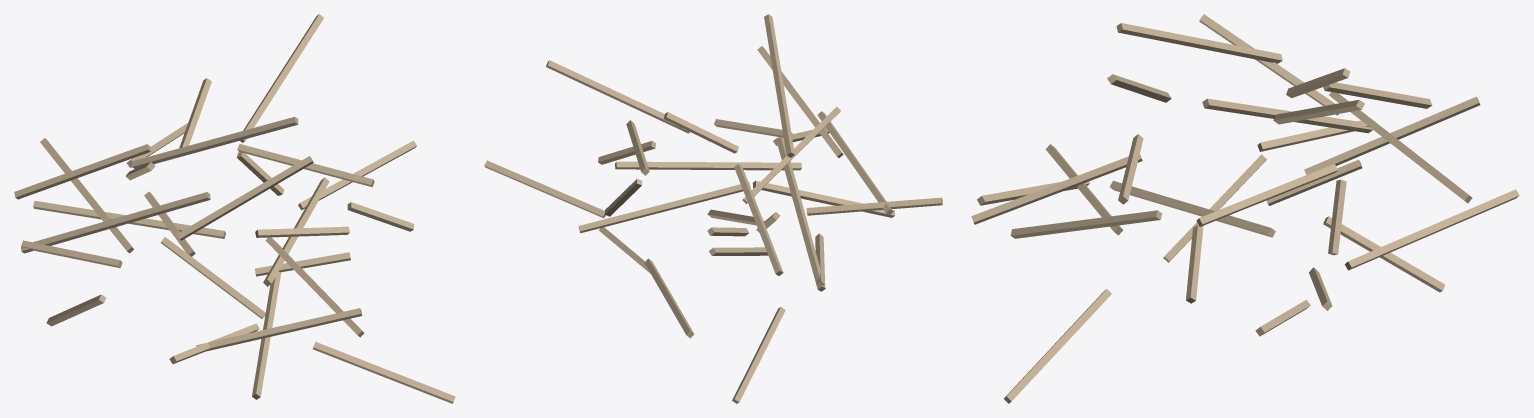
Rendered from Tumbleweed.glb.
3 renders of one model, left to right at view 1: azimuth 30°, elevation 25°; view 2: azimuth 150°, elevation 25°; view 3: azimuth 270°, elevation 25°, orthographic. The views are drawn at different scales.
Parts seen in each view (by area): view 1: Limb.009, Limb.013, Limb.011, Limb.014, Limb.004, Limb.003, Limb.016, Limb, Limb.019, Limb.015, Limb.023, Limb.020 (+13 smaller); view 2: Limb.006, Limb.022, Limb.013, Limb.009, Limb, Limb.007, Limb.005, Limb.003, Limb.011, Limb.015, Limb.018, Limb.014 (+9 smaller); view 3: Limb.013, Limb.016, Limb.020, Limb.002, Limb.015, Limb.009, Limb.022, Limb.019, Limb.006, Limb.004, Limb.018, Limb.003 (+13 smaller).
Boxes of the visible parts, box(x1,y1,x2,y2) form: Limb.009: box(21, 192, 210, 253); Limb.013: box(132, 116, 298, 169); Limb.011: box(196, 308, 362, 351); Limb.014: box(177, 156, 313, 240); Limb.004: box(313, 342, 455, 403); Limb.003: box(14, 144, 150, 199); Limb.016: box(33, 200, 225, 238); Limb: box(240, 14, 323, 142); Limb.019: box(237, 144, 374, 187); Limb.015: box(252, 271, 281, 399); Limb.023: box(160, 237, 265, 318); Limb.020: box(40, 138, 133, 253); Limb.006: box(578, 182, 750, 233); Limb.022: box(615, 161, 801, 170); Limb.013: box(764, 14, 794, 157); Limb.009: box(776, 137, 825, 291); Limb: box(546, 60, 689, 133); Limb.007: box(806, 197, 942, 215); Limb.005: box(484, 160, 605, 218); Limb.003: box(734, 164, 783, 275); Limb.011: box(817, 111, 893, 215); Limb.015: box(752, 180, 894, 217); Limb.018: box(732, 307, 785, 403); Limb.014: box(757, 46, 843, 157); Limb.013: box(1116, 23, 1282, 63); Limb.016: box(1345, 189, 1519, 270); Limb.020: box(1304, 96, 1480, 174); Limb.002: box(971, 154, 1142, 224); Limb.015: box(1010, 210, 1162, 238); Limb.009: box(1202, 98, 1372, 133); Limb.022: box(1110, 180, 1275, 237); Limb.019: box(1196, 164, 1337, 226); Limb.006: box(1329, 92, 1472, 203); Limb.004: box(1004, 289, 1111, 403); Limb.018: box(1323, 216, 1445, 292); Limb.003: box(1323, 82, 1432, 108).
Size of the model in its own units: 1.45 by 1.05 by 1.59.
